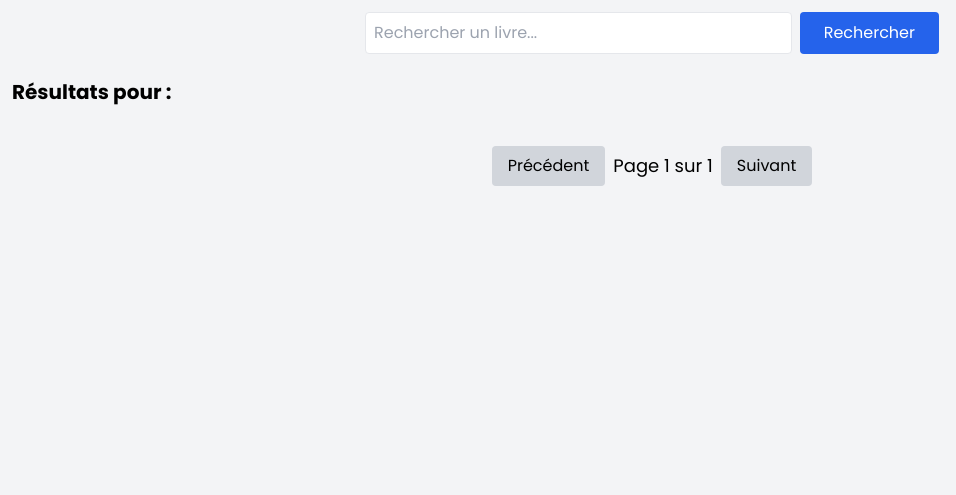
Test: Search › affiche les résultats de la recherche
In the field with placeholder "Rechercher un livre...": [578, 33] box [365,12,792,54], type "Book Title"
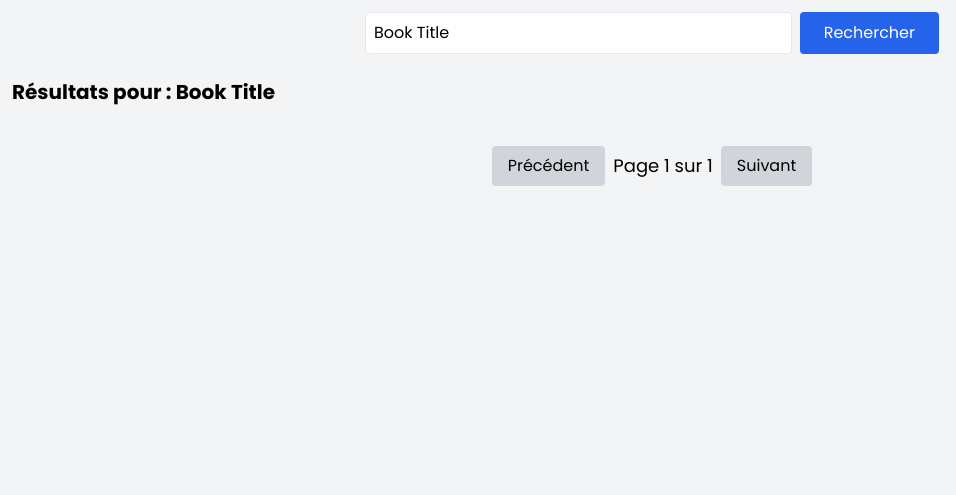
Click the button "Rechercher": [869, 33] box [800,12,939,54]
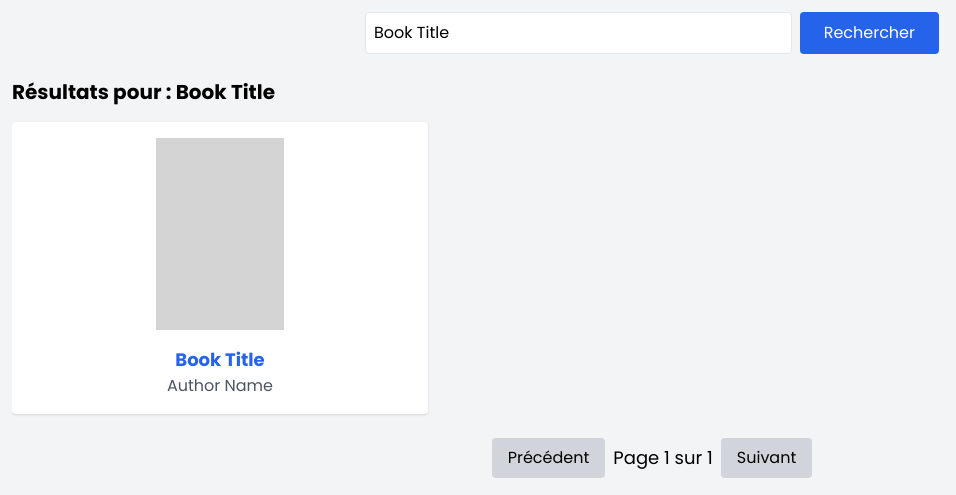
Expected: the link "Book Title" is shown, [175,347,265,372]
Expected: the text "Author Name" is shown, [167,374,273,398]
